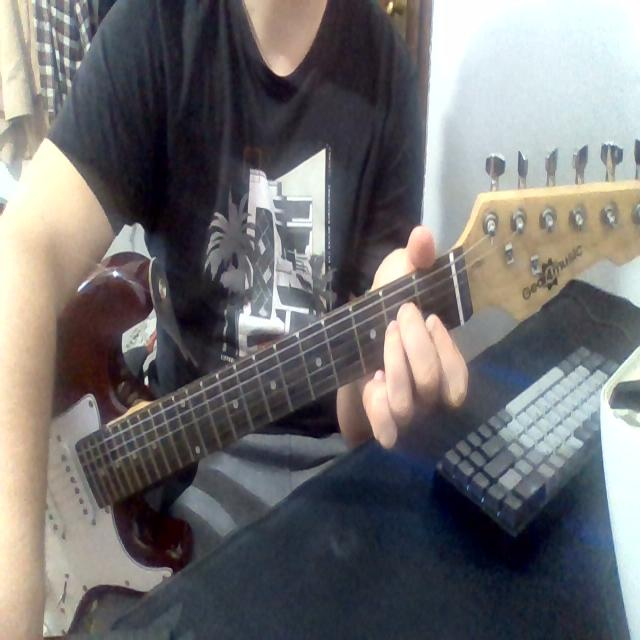Am: (365, 261, 475, 454)
